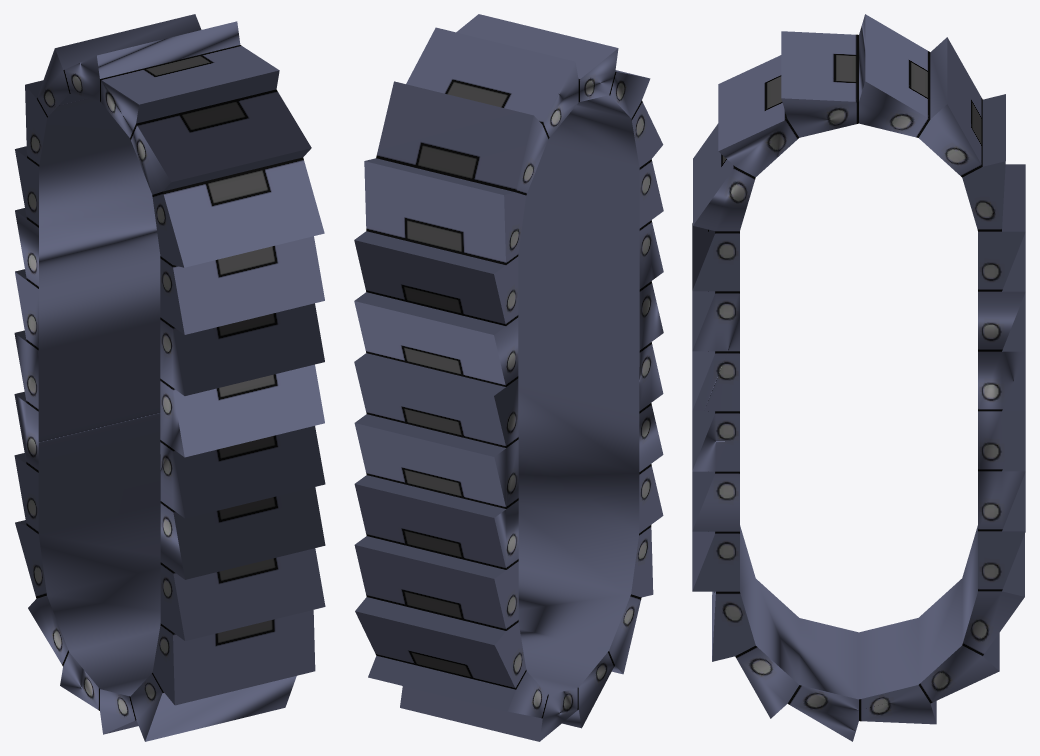
3 renders of one model, left to right at view 1: azimuth 30°, elevation 25°; view 2: azimuth 150°, elevation 25°; view 3: azimuth 270°, elevation 25°, orthographic. The views are drawn at different scales.
Parts seen in each view (by area): view 1: Joint_0_Object_0; view 2: Joint_0_Object_0; view 3: Joint_0_Object_0.
Boxes of the visible parts, <box> form: Joint_0_Object_0: <box>14,14,325,741</box>; Joint_0_Object_0: <box>354,14,663,741</box>; Joint_0_Object_0: <box>692,14,1025,741</box>.
Bounding box in the file's own units: 40.42 × 185 × 84.67.
Materials: 1 (1 with a texture image).
